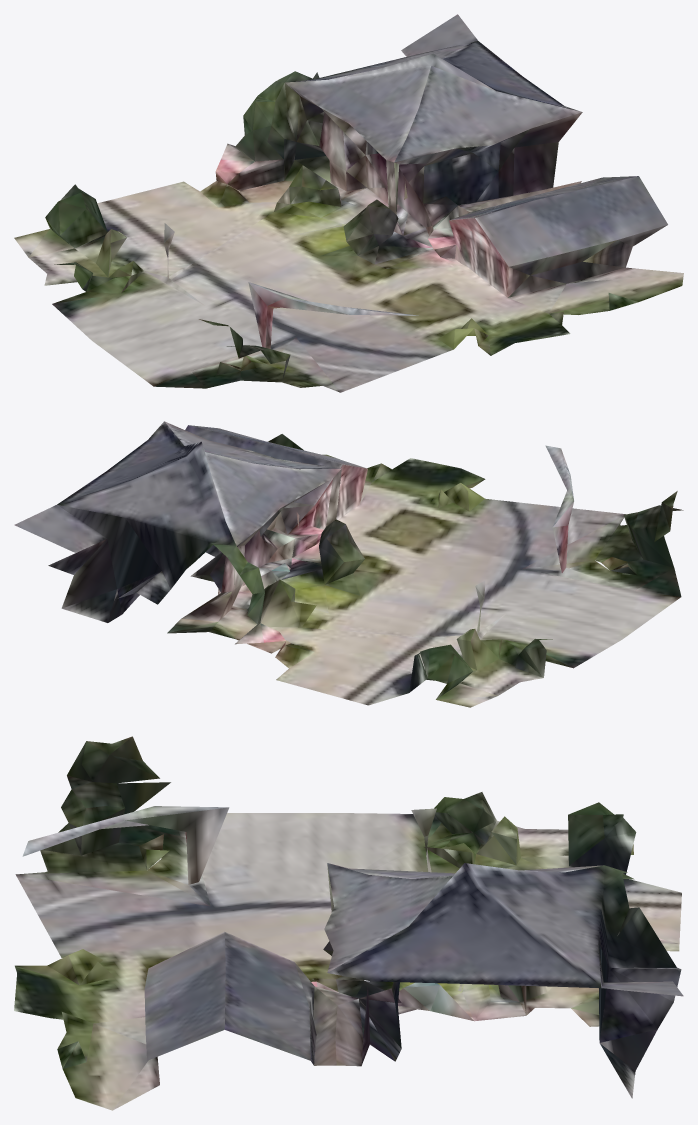
File: Tile_+005_+008_L17_00.glb
3 renders of one model, top to bottom at view 1: azimuth 30°, elevation 25°; view 2: azimuth 150°, elevation 25°; view 3: azimuth 270°, elevation 25°, orthographic. The views are drawn at different scales.
Parts seen in each view (by area): view 1: rtc; view 2: rtc; view 3: rtc.
Boxes of the visible parts, bbox=[...] form: rtc: bbox=[14, 14, 683, 392]; rtc: bbox=[14, 421, 683, 707]; rtc: bbox=[14, 736, 683, 1110].
Bounding box in the file's own units: 60.28 × 17.38 × 55.07.
Materials: 1 (1 with a texture image).
